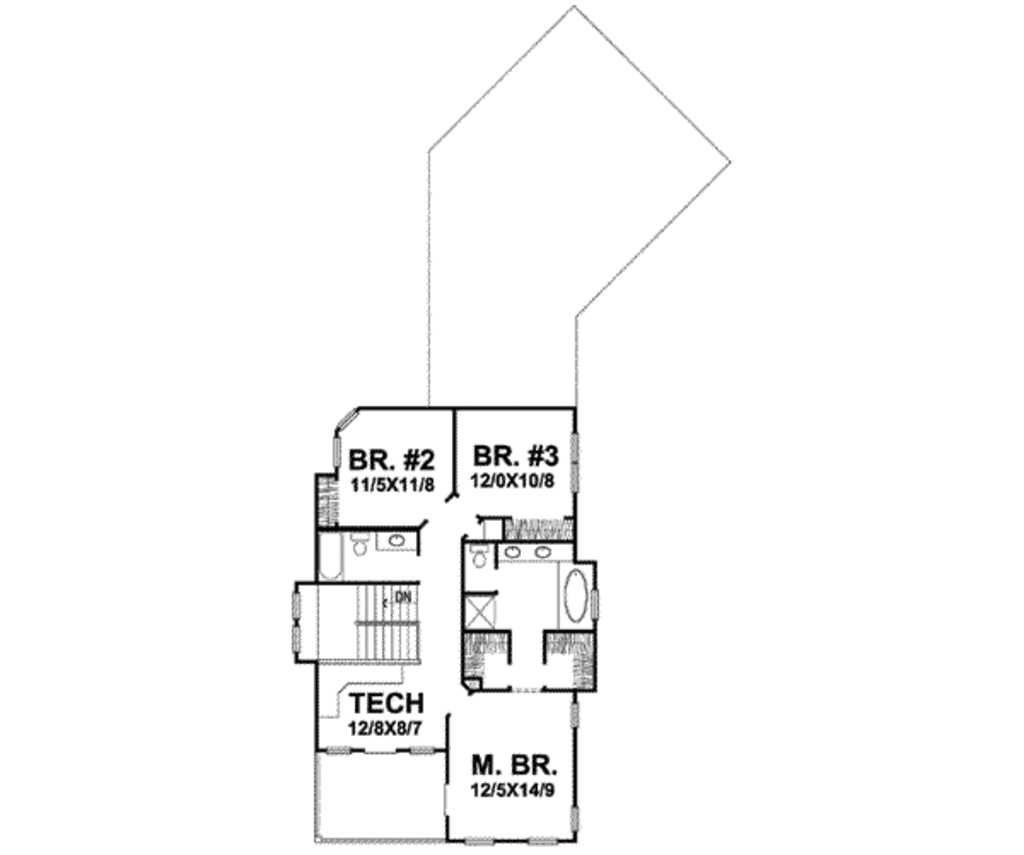large_sink: (458, 539, 491, 572), (346, 524, 371, 560)
small_sink: (497, 539, 574, 566), (375, 530, 418, 552)
stairs: (294, 585, 426, 662)
tub: (554, 562, 592, 632), (312, 532, 343, 584)
windows: (332, 410, 355, 471), (564, 429, 583, 496), (565, 805, 585, 835), (566, 699, 581, 731)
